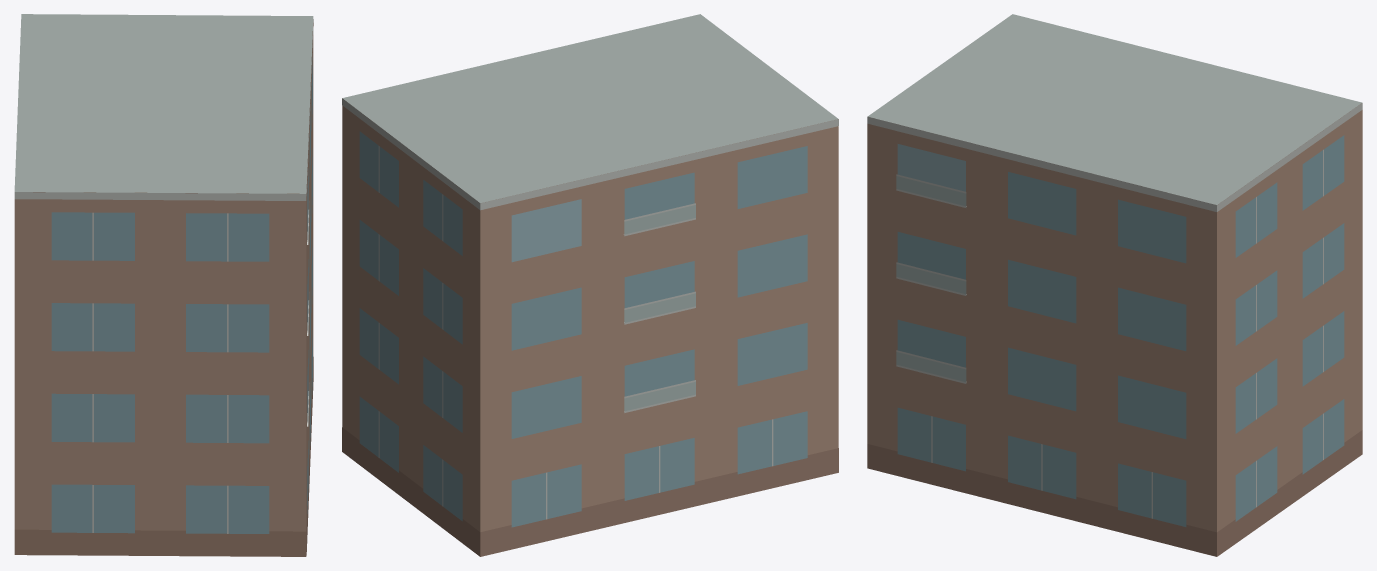
File: residential-e69c7c9b-e9ca-49fc-9191-0cc5fa53d778.glb
3 views of the same model, side by side, from view 1: azimuth 30°, elevation 25°; view 2: azimuth 150°, elevation 25°; view 3: azimuth 270°, elevation 25° (orthographic). The views are drawn at different scales.
Parts seen in each view (by area): view 1: residential-e69c7c9b-e9ca-49fc-9191-0cc5fa53d778.tmp; view 2: residential-e69c7c9b-e9ca-49fc-9191-0cc5fa53d778.tmp; view 3: residential-e69c7c9b-e9ca-49fc-9191-0cc5fa53d778.tmp.
Boxes of the visible parts, x1,y1,x2,y2 form: residential-e69c7c9b-e9ca-49fc-9191-0cc5fa53d778.tmp: (14, 14, 313, 556); residential-e69c7c9b-e9ca-49fc-9191-0cc5fa53d778.tmp: (342, 14, 838, 556); residential-e69c7c9b-e9ca-49fc-9191-0cc5fa53d778.tmp: (867, 14, 1362, 556).
Size of the model in its own units: 14.23 by 12.2 by 15.57.
